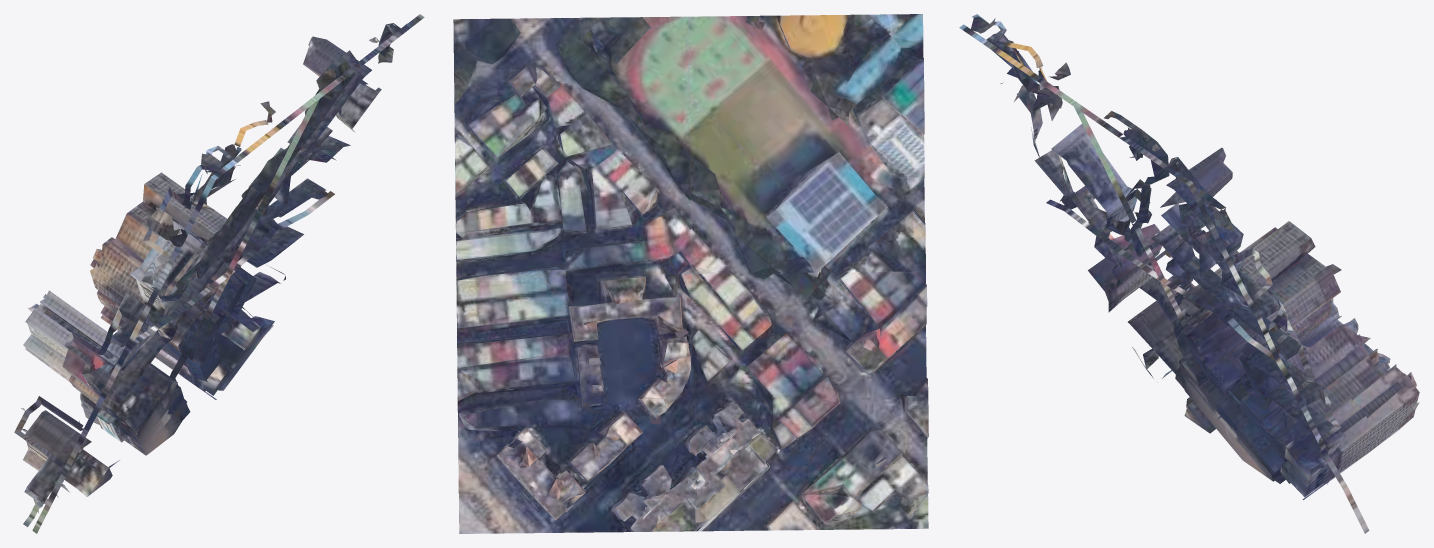
3 renders of one model, left to right at view 1: azimuth 30°, elevation 25°; view 2: azimuth 150°, elevation 25°; view 3: azimuth 270°, elevation 25°, orthographic. The views are drawn at different scales.
Size of the model in its own units: 312 by 288 by 291.
Materials: 2 (2 with a texture image).
